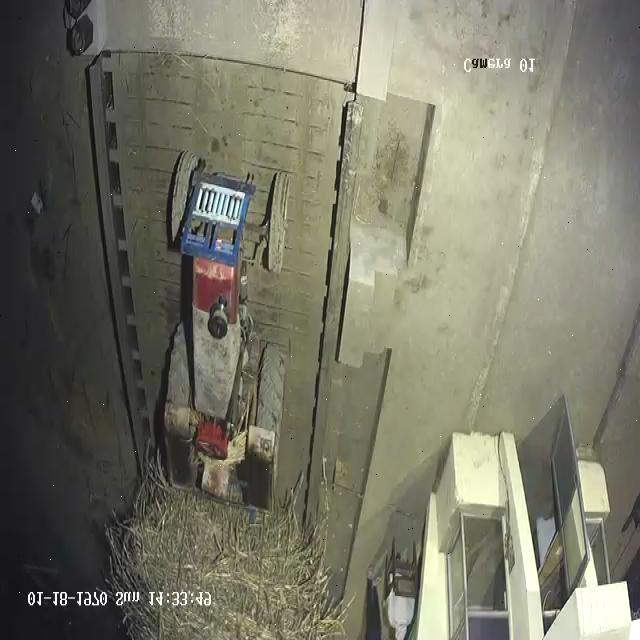Tratores - v5 YOLO V8L 2024-11-13: (157, 147, 295, 482)
